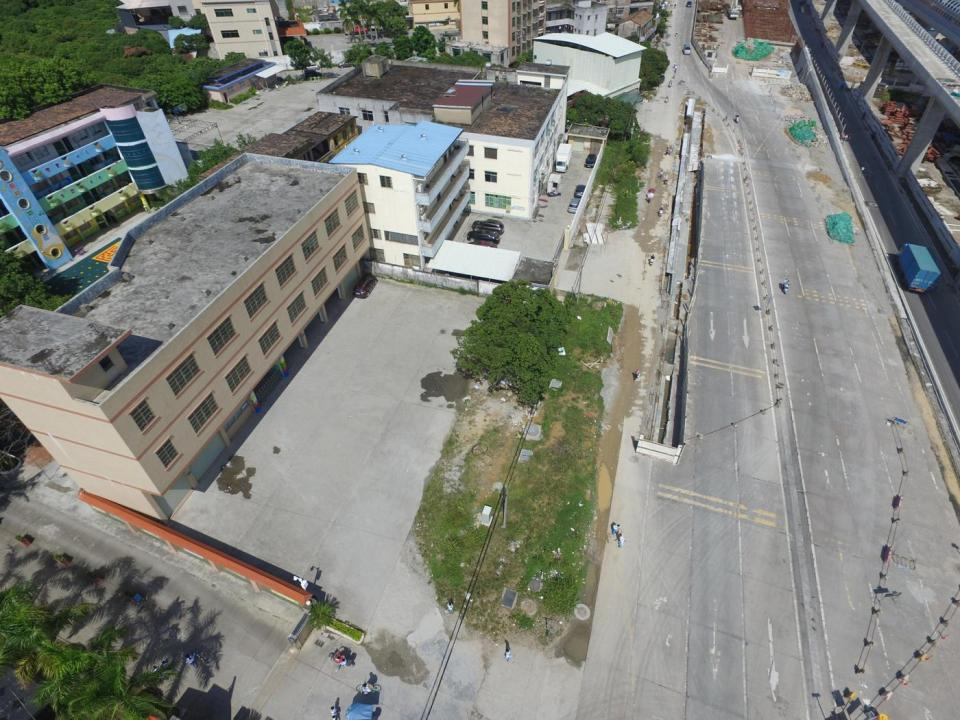car: (352, 273, 378, 298), (471, 220, 506, 235), (468, 229, 502, 243), (464, 241, 499, 254), (566, 199, 580, 216), (573, 184, 588, 198), (584, 153, 597, 168), (306, 61, 319, 70), (338, 61, 354, 68), (684, 44, 690, 55), (685, 1, 692, 7)
truck: (897, 242, 942, 297), (554, 142, 573, 172), (546, 173, 562, 196), (343, 26, 369, 34)
